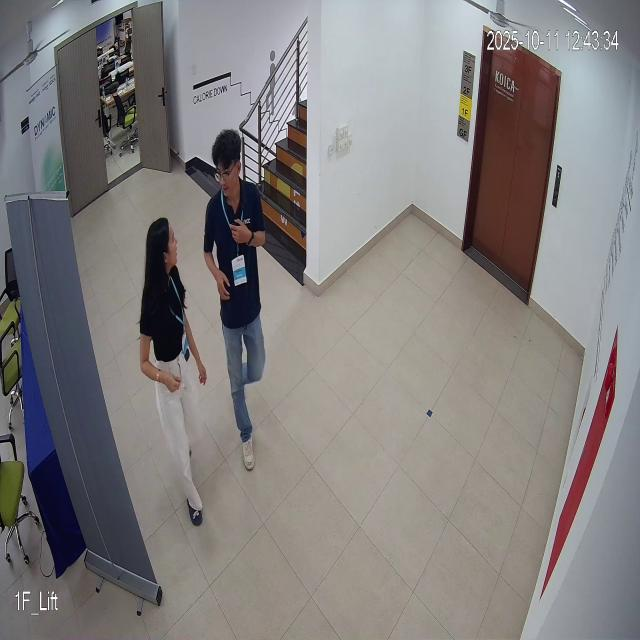face: (209, 118, 246, 212), (146, 207, 181, 279)
